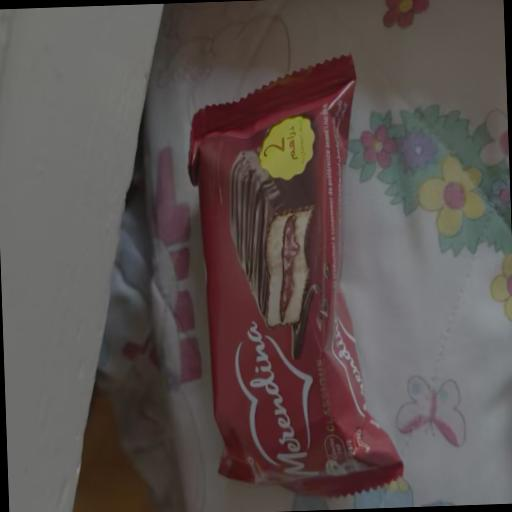merendina: (169, 40, 429, 512)
